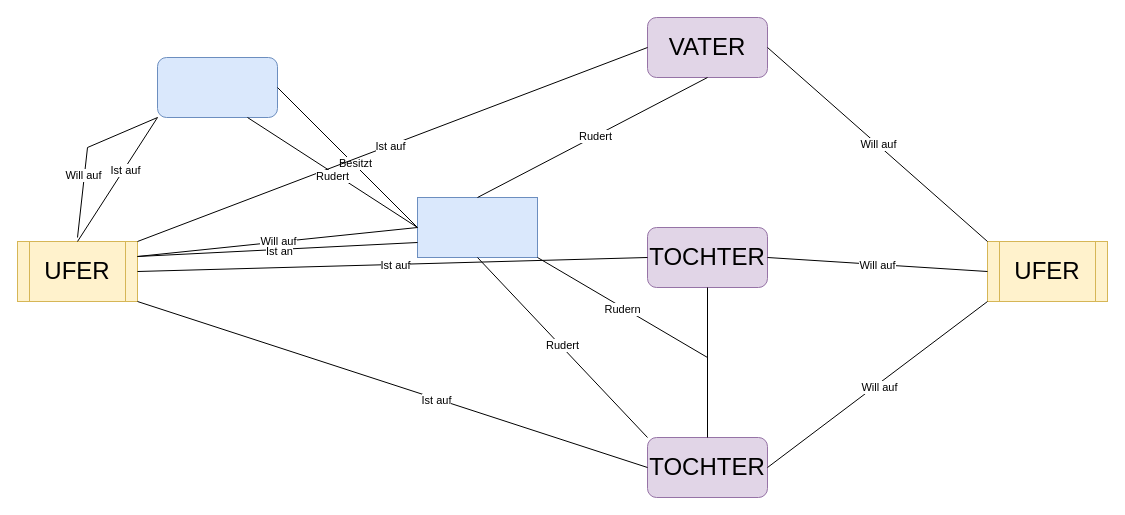
Image size: 1125x515. Some labels were removed from this diagram. Each missing label, with the centre of its shape:
"BOOT" belongs at pixel 477 227.
"FISCHER" belongs at pixel 217 87.
